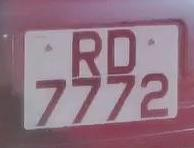2: (136, 69, 175, 123)
7: (103, 72, 139, 127), (32, 76, 67, 128), (68, 74, 104, 124)
D: (101, 23, 142, 79)
R: (68, 26, 106, 79)
